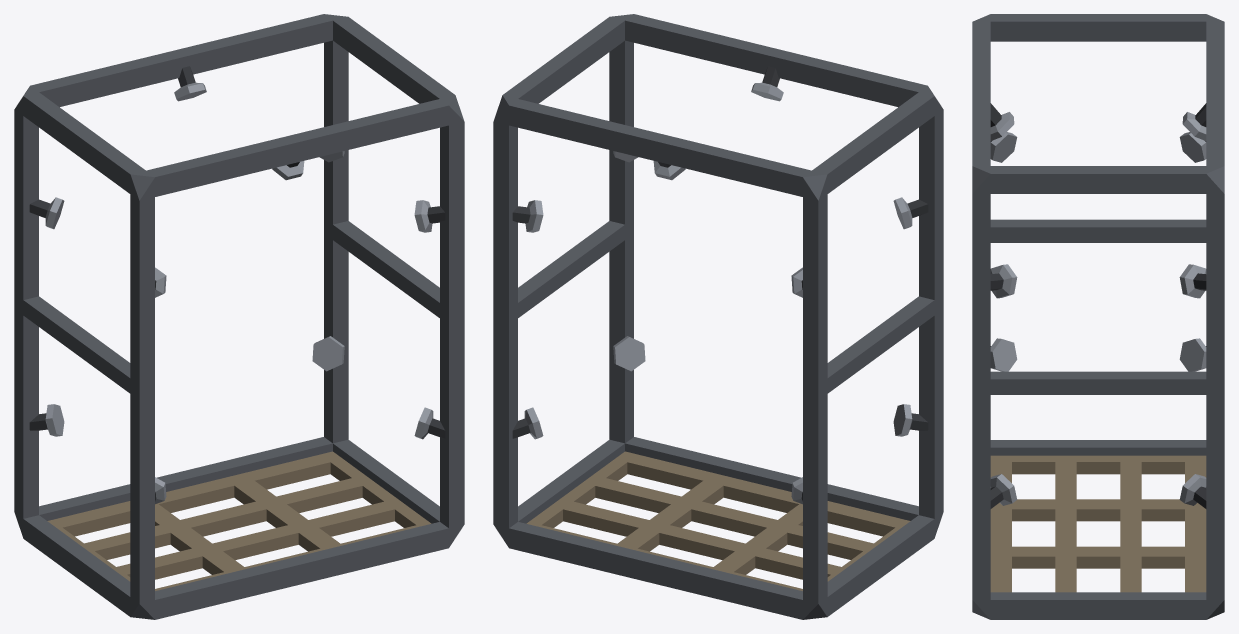
The model's file is SM_Prop_Decontamination_Shower_01.fbx.
3 renders of one model, left to right at view 1: azimuth 30°, elevation 25°; view 2: azimuth 150°, elevation 25°; view 3: azimuth 270°, elevation 25°, orthographic.
Visible parts, largest first — view 1: SM_Prop_Decontamination_Shower_01_LOD0; view 2: SM_Prop_Decontamination_Shower_01_LOD0; view 3: SM_Prop_Decontamination_Shower_01_LOD0.
Boxes of the visible parts, <box> form: SM_Prop_Decontamination_Shower_01_LOD0: <box>14,14,464,619</box>; SM_Prop_Decontamination_Shower_01_LOD0: <box>493,14,943,619</box>; SM_Prop_Decontamination_Shower_01_LOD0: <box>972,14,1224,619</box>.
Bounding box in the file's own units: 155 × 232 × 302.
Materials: 1 (1 with a texture image).
